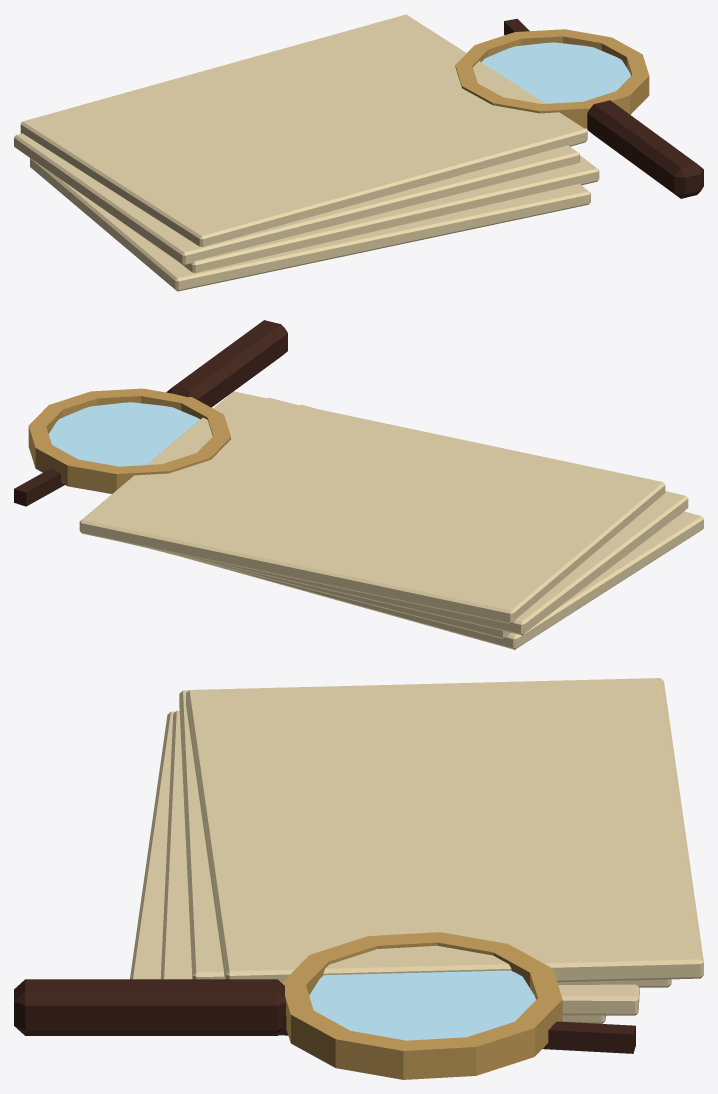
The model's file is residential_accessories_21.glb.
3 renders of one model, top to bottom at view 1: azimuth 30°, elevation 25°; view 2: azimuth 150°, elevation 25°; view 3: azimuth 270°, elevation 25°, orthographic. The views are drawn at different scales.
Parts seen in each view (by area): view 1: Paper_003, Paper, Paper_002, Paper_001, Lens, Magnifier, MagnifierHandle; view 2: Paper_003, Magnifier, Lens, Paper_002, Paper, MagnifierHandle, Paper_001, Pen; view 3: Paper_003, Magnifier, MagnifierHandle, Lens, Paper_001, Paper_002, Paper, Pen.
Part boxes in pixels (<box>): Paper_003: <box>20,14,587,246</box>; Paper: <box>30,158,590,291</box>; Paper_002: <box>14,133,579,265</box>; Paper_001: <box>180,155,599,272</box>; Lens: <box>481,42,630,103</box>; Magnifier: <box>455,29,649,128</box>; MagnifierHandle: <box>587,100,703,198</box>; Paper_003: <box>79,391,665,624</box>; Magnifier: <box>28,388,230,493</box>; Lens: <box>48,402,199,466</box>; Paper_002: <box>123,398,688,635</box>; Paper: <box>181,404,703,649</box>; MagnifierHandle: <box>166,320,287,407</box>; Paper_001: <box>151,397,681,638</box>; Pen: <box>14,468,64,506</box>; Paper_003: <box>186,678,703,982</box>; Magnifier: <box>282,932,562,1079</box>; MagnifierHandle: <box>14,979,285,1035</box>; Lens: <box>309,970,535,1040</box>; Paper_001: <box>160,710,639,1015</box>; Paper_002: <box>179,690,671,987</box>; Paper: <box>130,711,605,1023</box>; Pen: <box>262,1015,635,1053</box>.
Bounding box in the file's own units: 0.5169 × 0.045 × 0.389.
